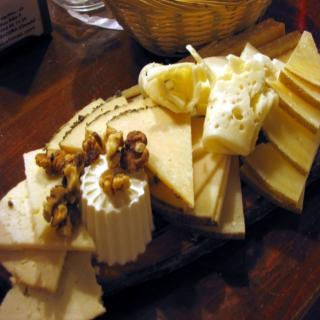Cheese: (0, 31, 320, 320), (196, 49, 284, 161)
